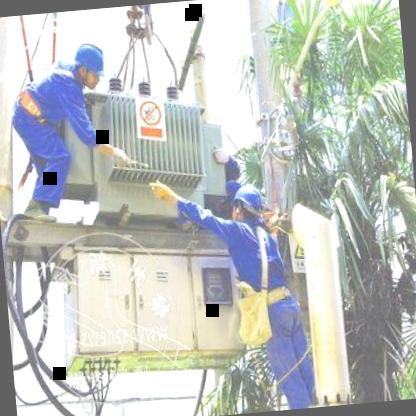helmet: (70, 35, 110, 92), (230, 185, 263, 227)
